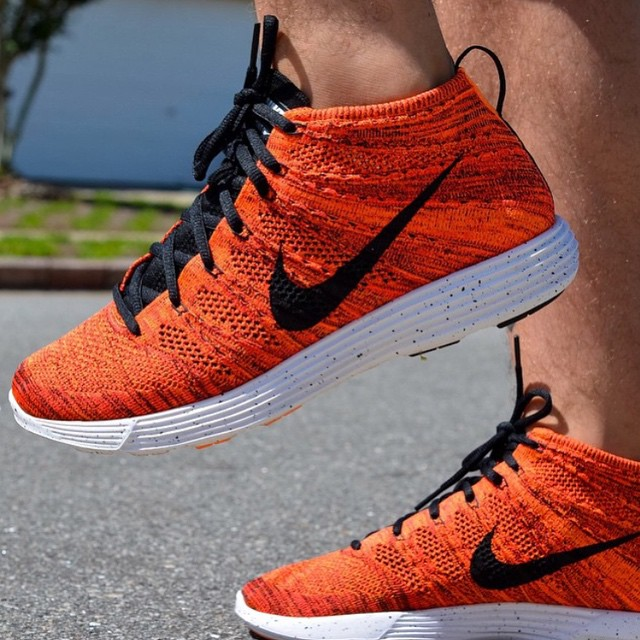sneaker: (1, 9, 602, 476), (215, 384, 640, 638)
